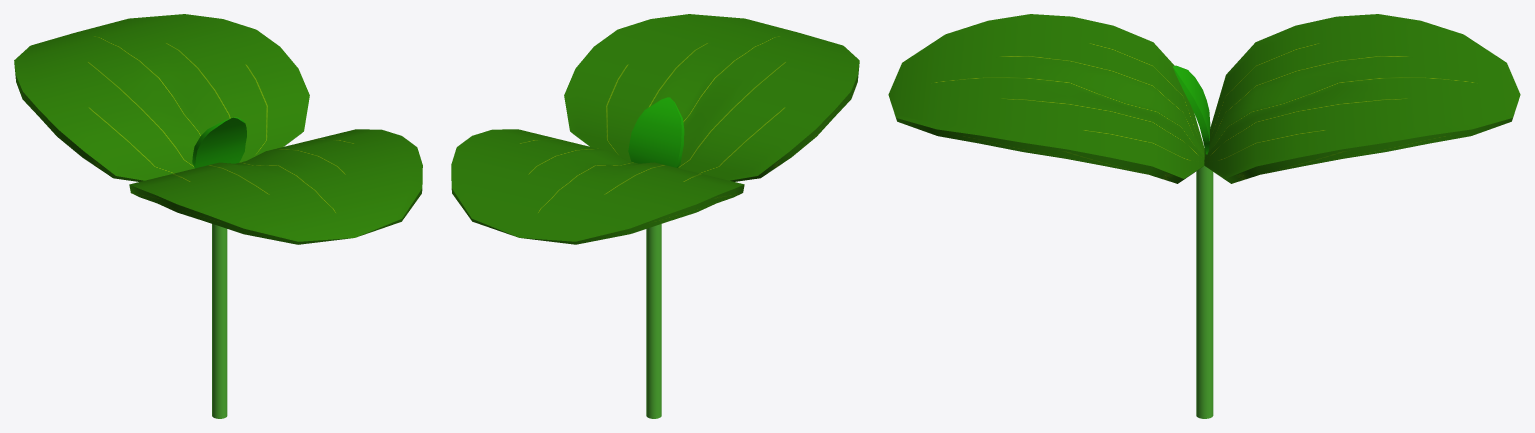
The model's file is 南瓜發芽.FBX.
3 views of the same model, side by side, from view 1: azimuth 30°, elevation 25°; view 2: azimuth 150°, elevation 25°; view 3: azimuth 270°, elevation 25° (orthographic). The views are drawn at different scales.
Visible parts, largest first — view 1: Box001, Box002, Cylinder001, Box003; view 2: Box002, Box001, Cylinder001, Box003; view 3: Box001, Box002, Cylinder001, Box003.
Part boxes in pixels (bbox=[...]): Box001: bbox=[14, 14, 309, 181]; Box002: bbox=[129, 129, 422, 244]; Cylinder001: bbox=[212, 224, 227, 418]; Box003: bbox=[192, 117, 246, 168]; Box002: bbox=[564, 14, 859, 181]; Box001: bbox=[451, 129, 744, 244]; Cylinder001: bbox=[646, 224, 661, 418]; Box003: bbox=[628, 97, 684, 167]; Box001: bbox=[1204, 14, 1520, 183]; Box002: bbox=[888, 14, 1204, 183]; Cylinder001: bbox=[1196, 166, 1213, 418]; Box003: bbox=[1173, 65, 1210, 154].
Bounding box in the file's own units: 21.46 × 25.92 × 42.69.
3 materials, 1 textured.
